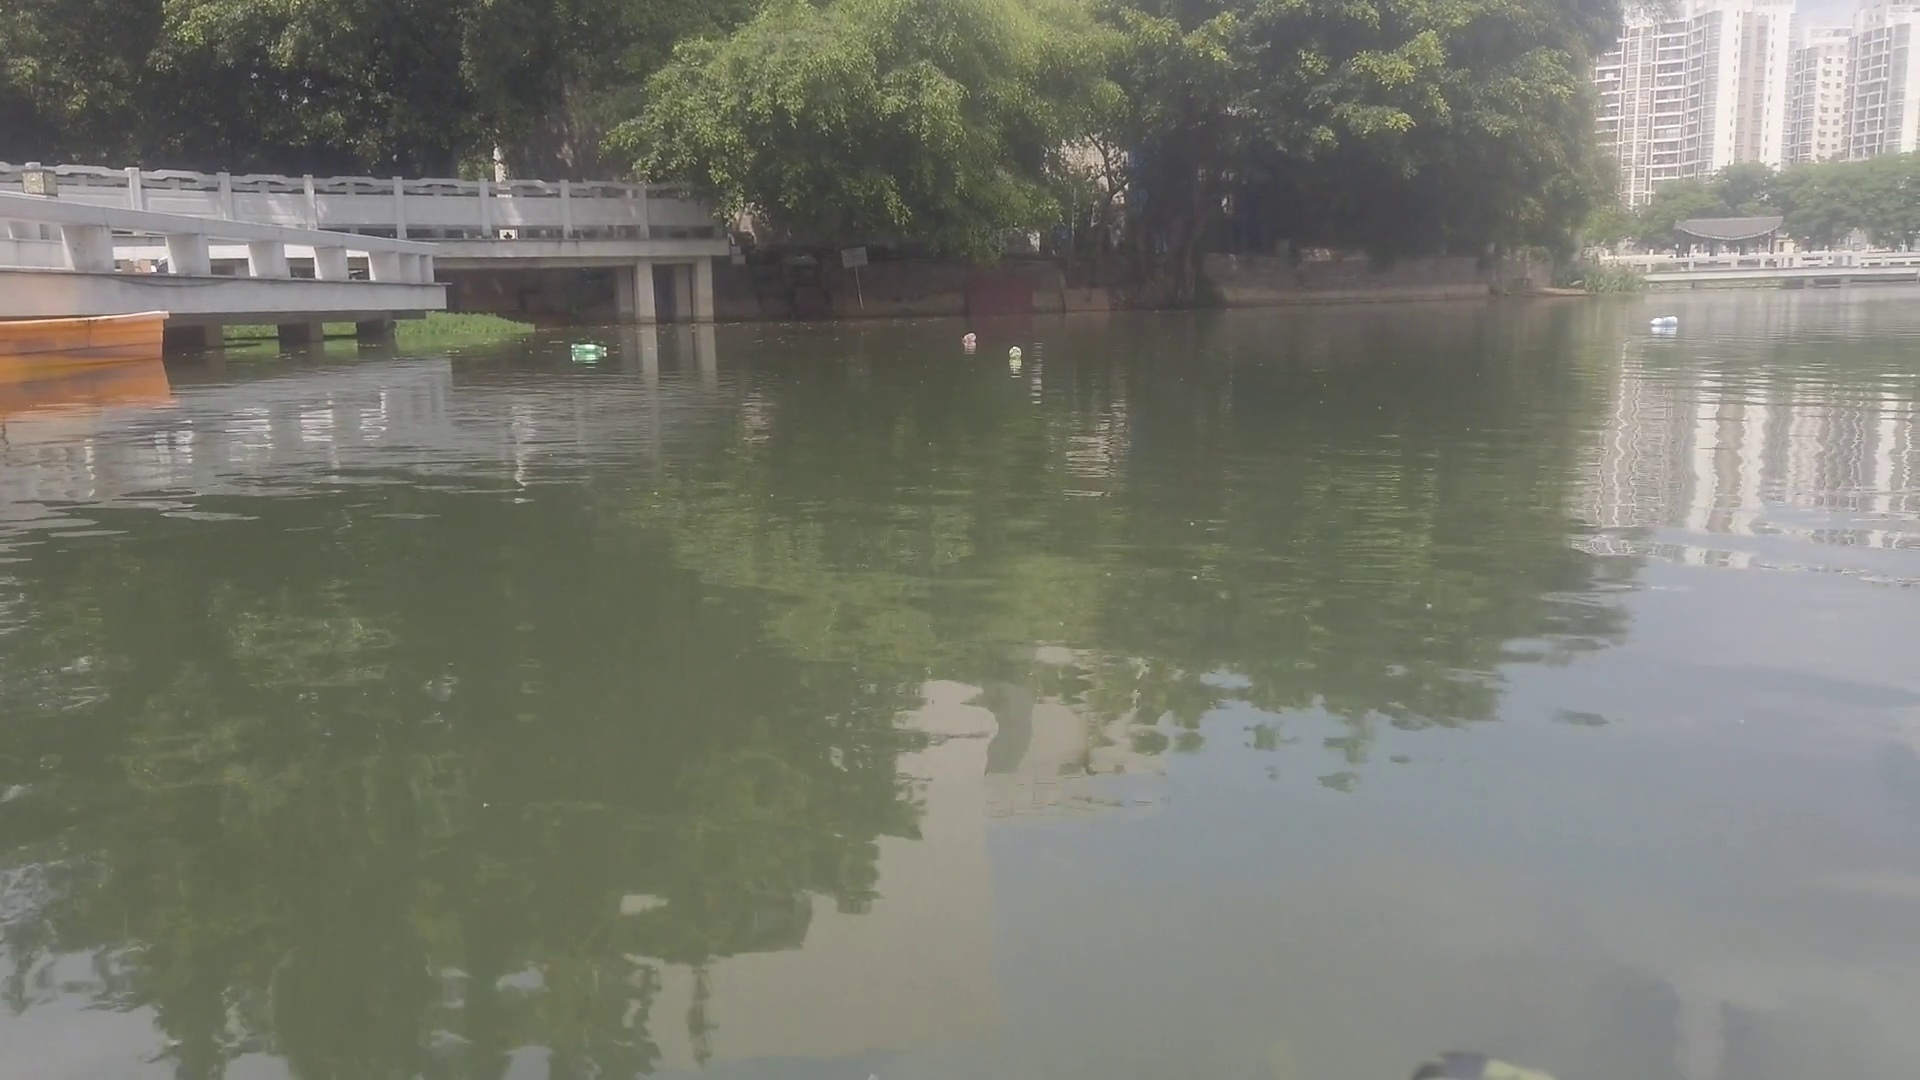bottle: (568, 339, 611, 353), (1648, 314, 1677, 328), (960, 328, 978, 345), (1006, 345, 1026, 360)
